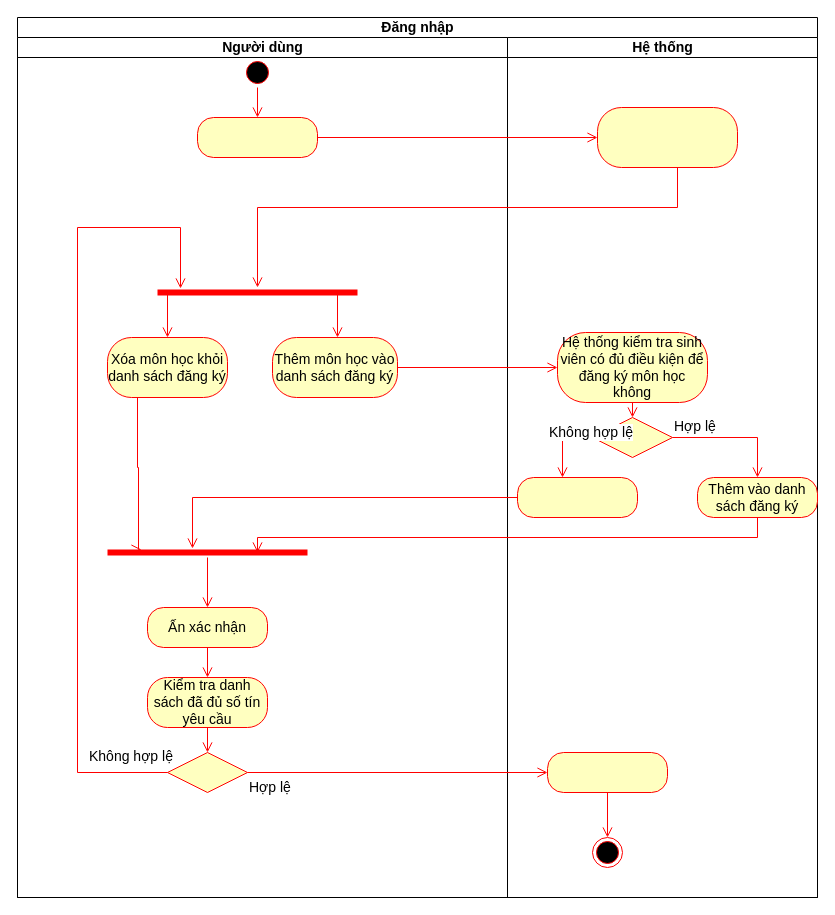
This 835x915 diagram has some shape labels left out. The centre of each missing label's shape, as x and y in pixels:
"Condition" belongs at point 207,772.
"Hiển thị danh sách môn học theo ngành của sinh viên" belongs at point 667,137.
"Không cho phép đăng ký" belongs at point 577,497.
"Thông báo đăng ký thành công" belongs at point 607,772.
"Truy cập giao diện đăng ký học" belongs at point 257,137.
